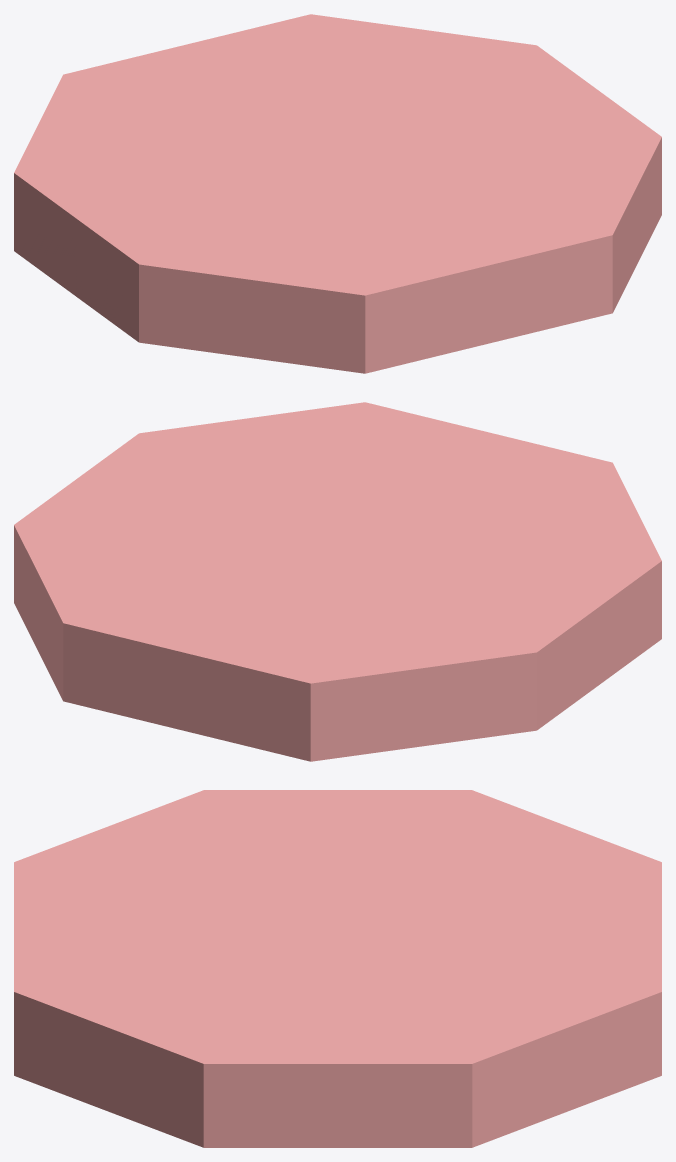
The model's file is burger_patty_model.gltf.
3 views of the same model, one above another, from view 1: azimuth 30°, elevation 25°; view 2: azimuth 150°, elevation 25°; view 3: azimuth 270°, elevation 25° (orthographic). The views are drawn at different scales.
Visible parts, largest first — view 1: cylinder; view 2: cylinder; view 3: cylinder.
Boxes of the visible parts, <box> form: cylinder: <box>14,14,661,373</box>; cylinder: <box>14,402,661,761</box>; cylinder: <box>14,790,661,1147</box>.
Size of the model in its own units: 0.4375 by 0.0625 by 0.4375.
Materials: 1 (1 with a texture image).
